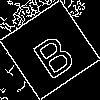B: (25, 24, 79, 81)
